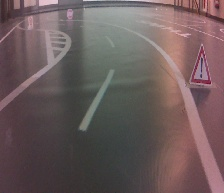warning sign: (189, 43, 213, 87)
